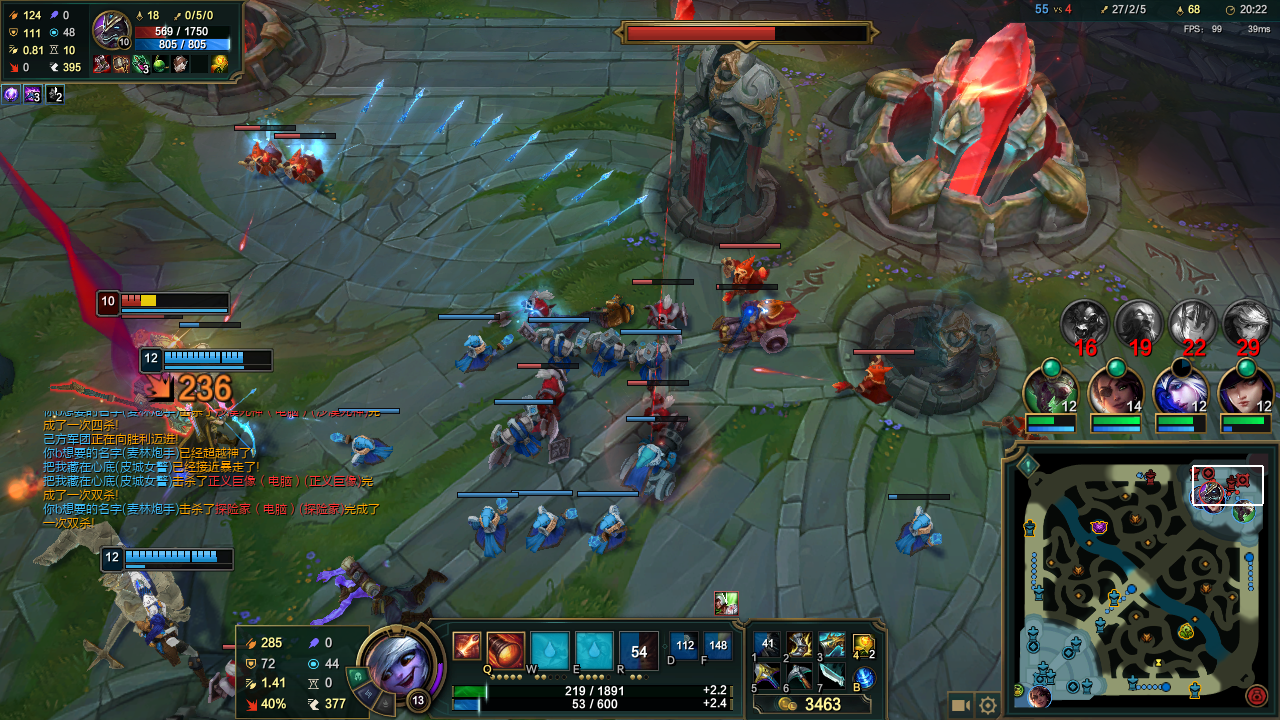DFDSJ: (876, 48, 1087, 229)
DFFYT: (650, 48, 819, 261)
DFXB: (710, 299, 810, 361), (830, 360, 900, 409), (633, 293, 702, 342), (522, 370, 592, 416), (636, 390, 696, 433), (715, 254, 770, 293)
DFYX: (118, 294, 199, 305)
WFXB: (614, 435, 696, 503), (324, 421, 412, 478), (515, 500, 588, 557), (461, 500, 528, 562), (487, 408, 556, 460), (584, 505, 638, 558), (454, 331, 521, 373), (891, 505, 943, 558), (538, 329, 591, 380)
